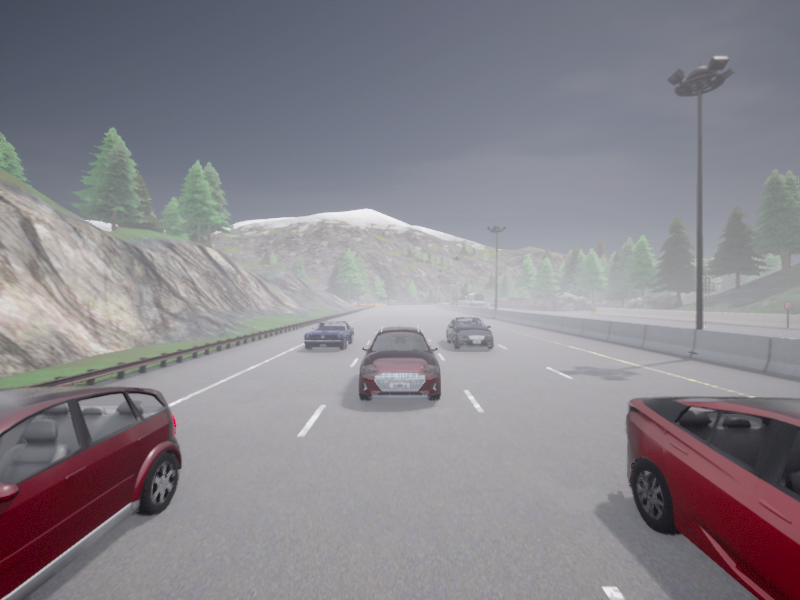vehicle: (0, 386, 181, 599), (626, 396, 799, 599), (359, 326, 440, 400), (446, 317, 493, 349), (304, 321, 353, 350), (466, 293, 484, 307), (460, 296, 467, 304), (449, 302, 454, 304), (485, 303, 487, 307)
